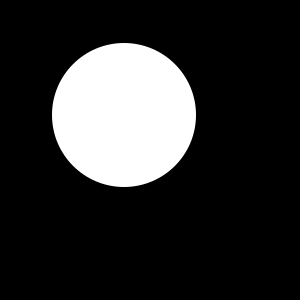rectangle: (52, 43, 196, 187)
